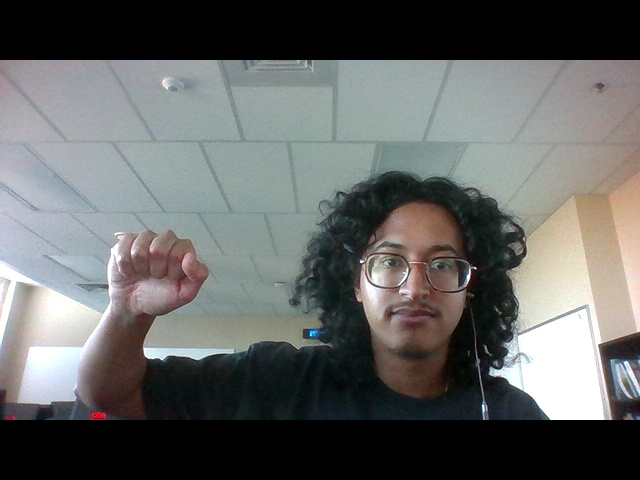yes: (100, 214, 231, 329)
